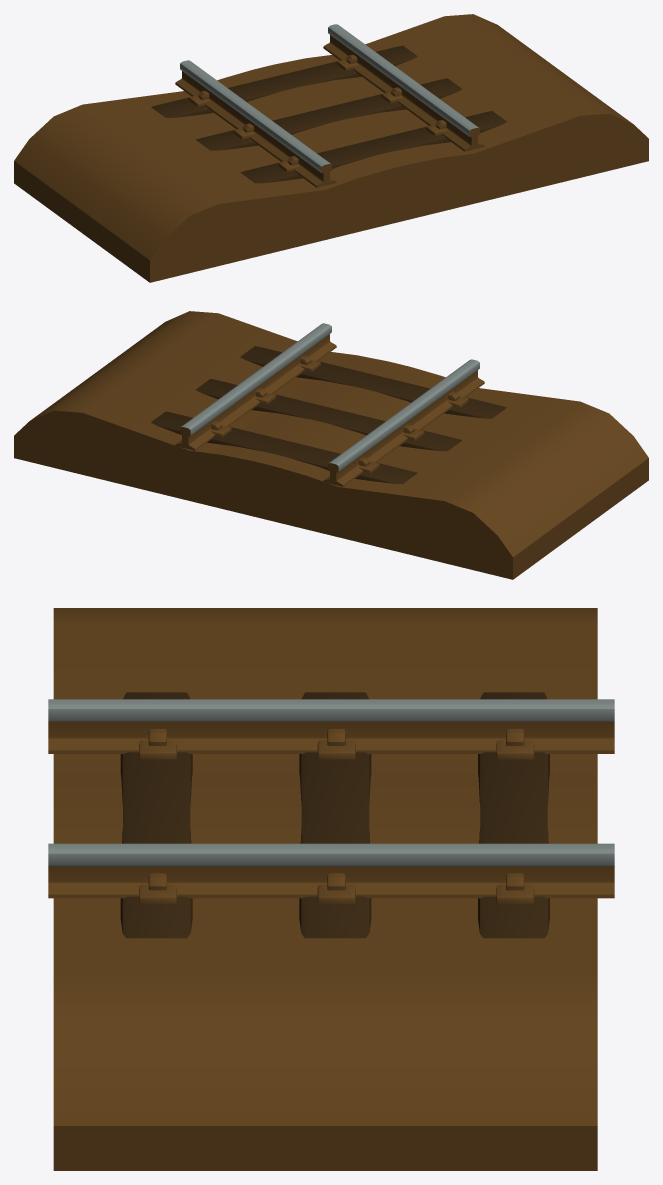
Rendered from relnya doang.fbx.
3 views of the same model, one above another, from view 1: azimuth 30°, elevation 25°; view 2: azimuth 150°, elevation 25°; view 3: azimuth 270°, elevation 25° (orthographic). The views are drawn at different scales.
Visible parts, largest first — view 1: Rel+Kerikil; view 2: Rel+Kerikil; view 3: Rel+Kerikil.
Boxes of the visible parts, x1,y1,x2,y2 form: Rel+Kerikil: [14, 14, 648, 282]; Rel+Kerikil: [14, 311, 648, 579]; Rel+Kerikil: [48, 608, 614, 1170].
Bounding box in the file's own units: 940 × 138 × 462.
